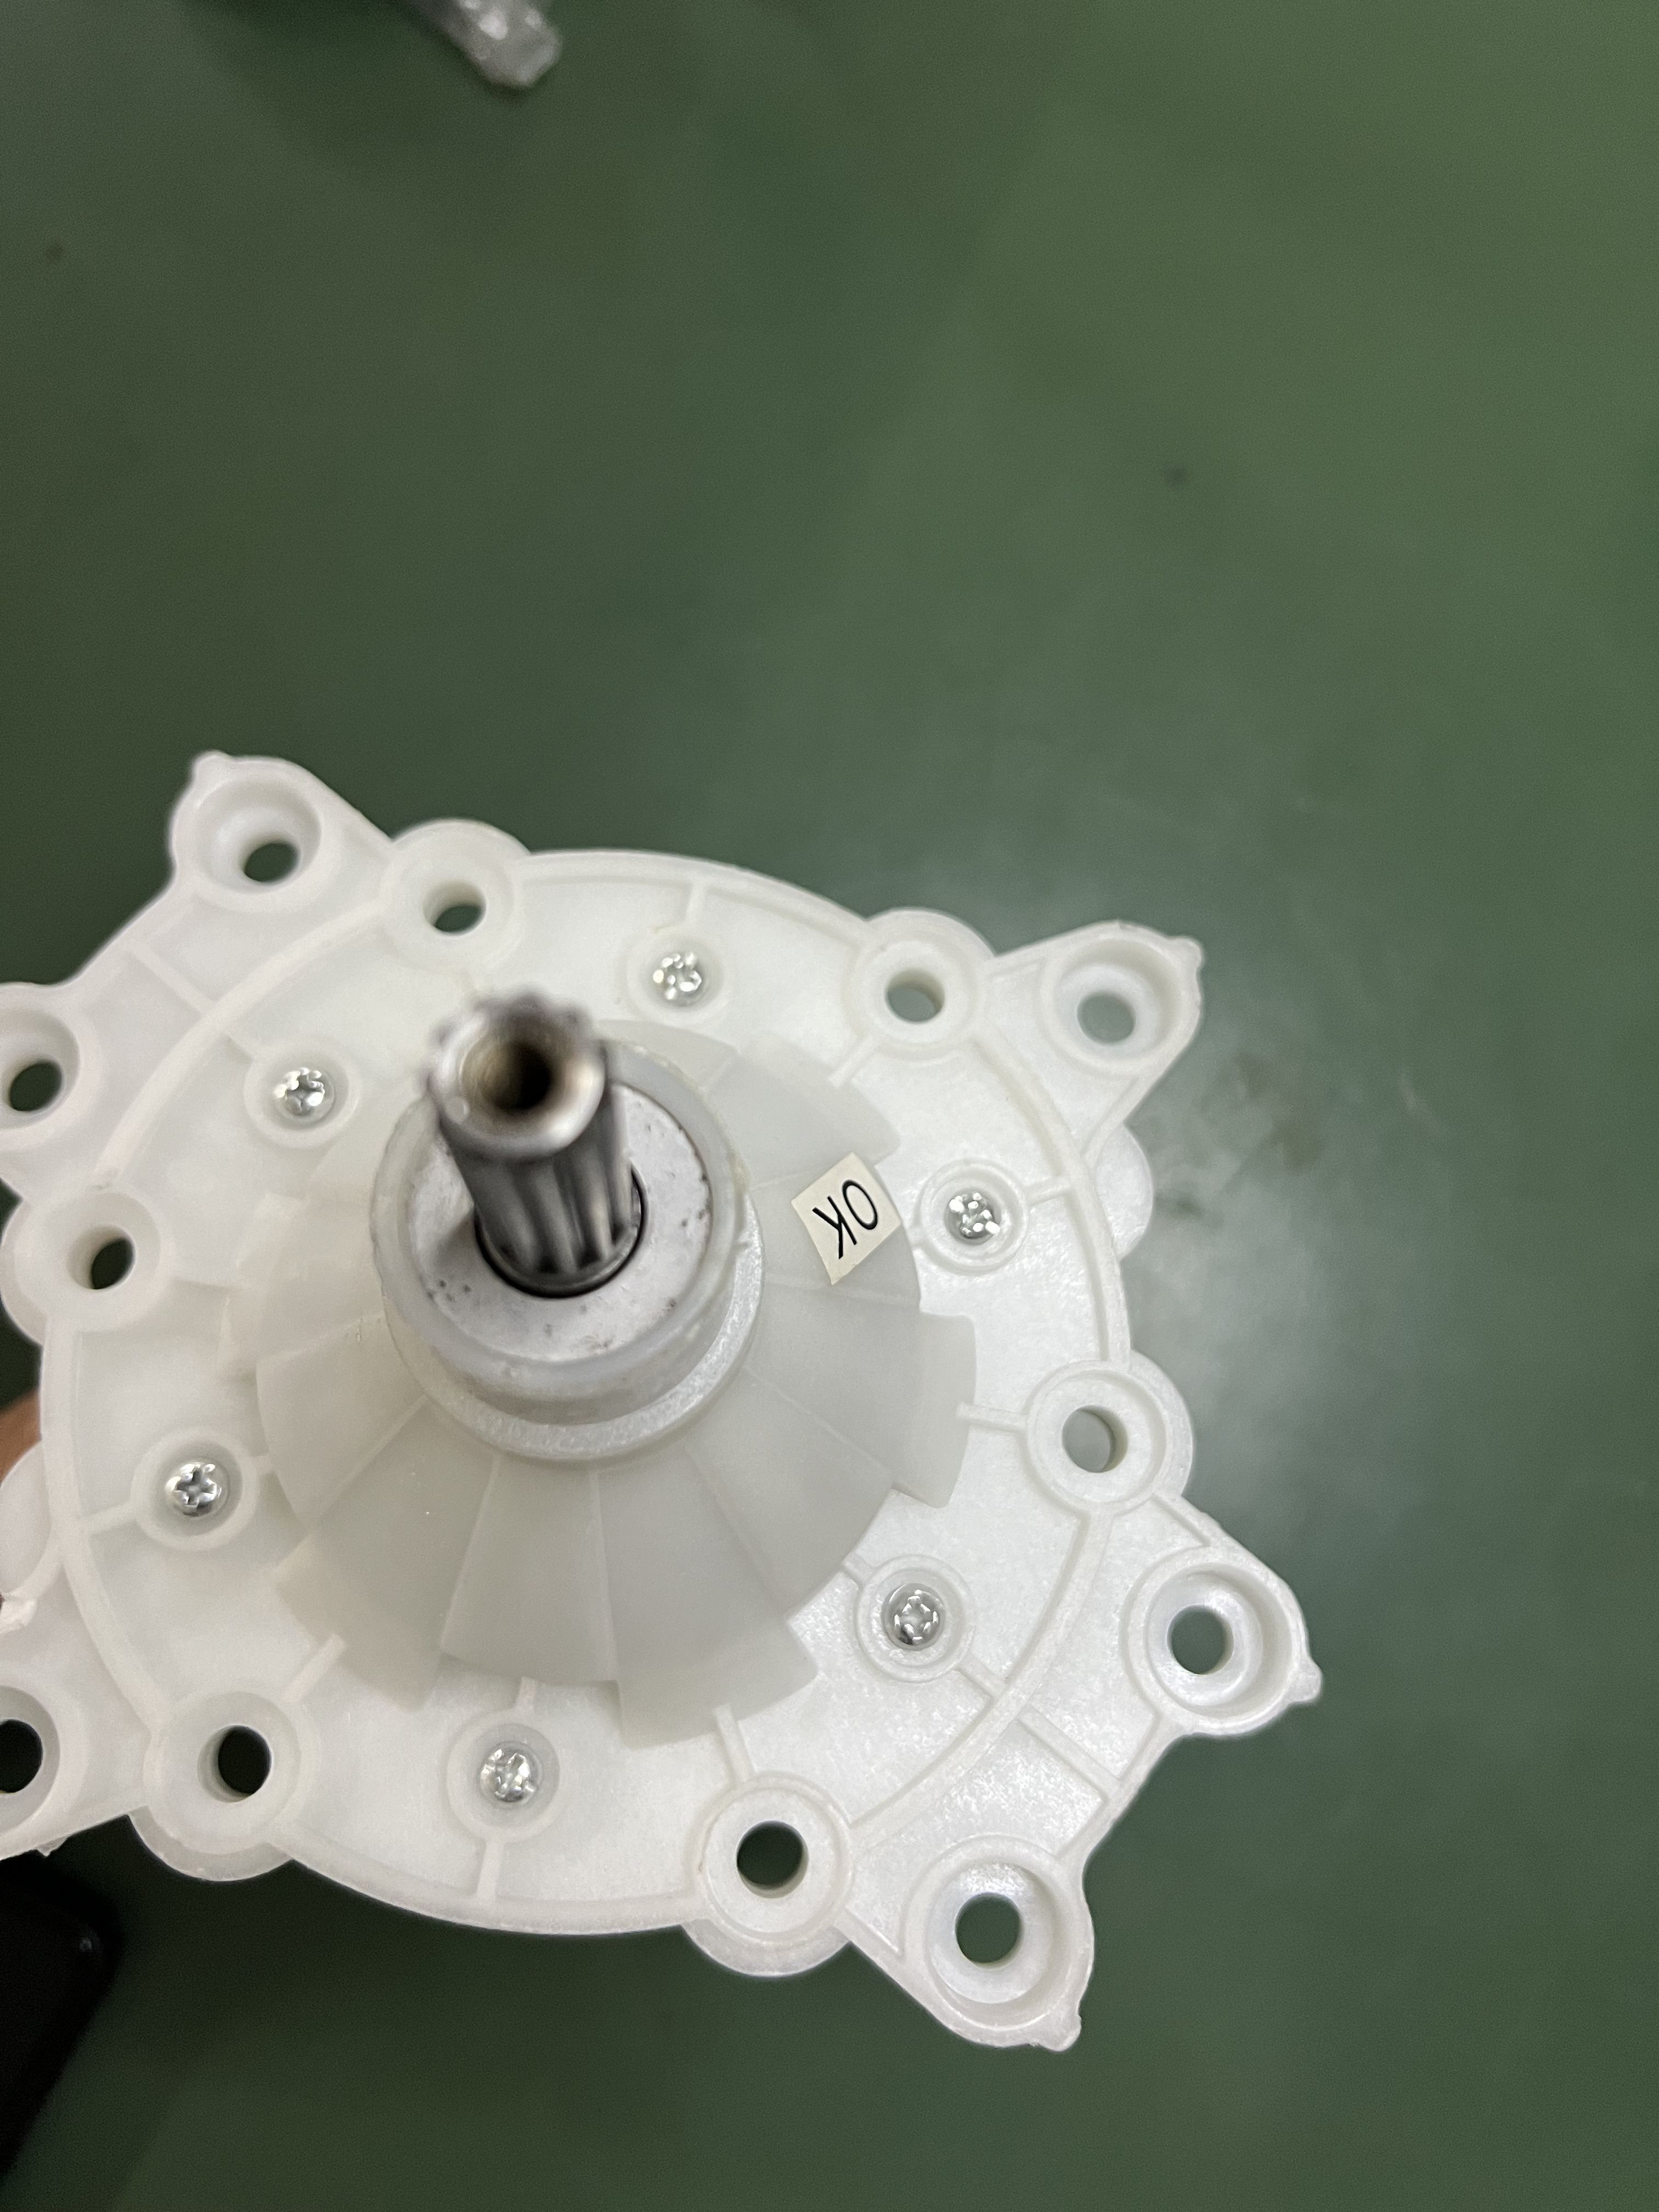gear_box_design: (0, 740, 1358, 2085)
